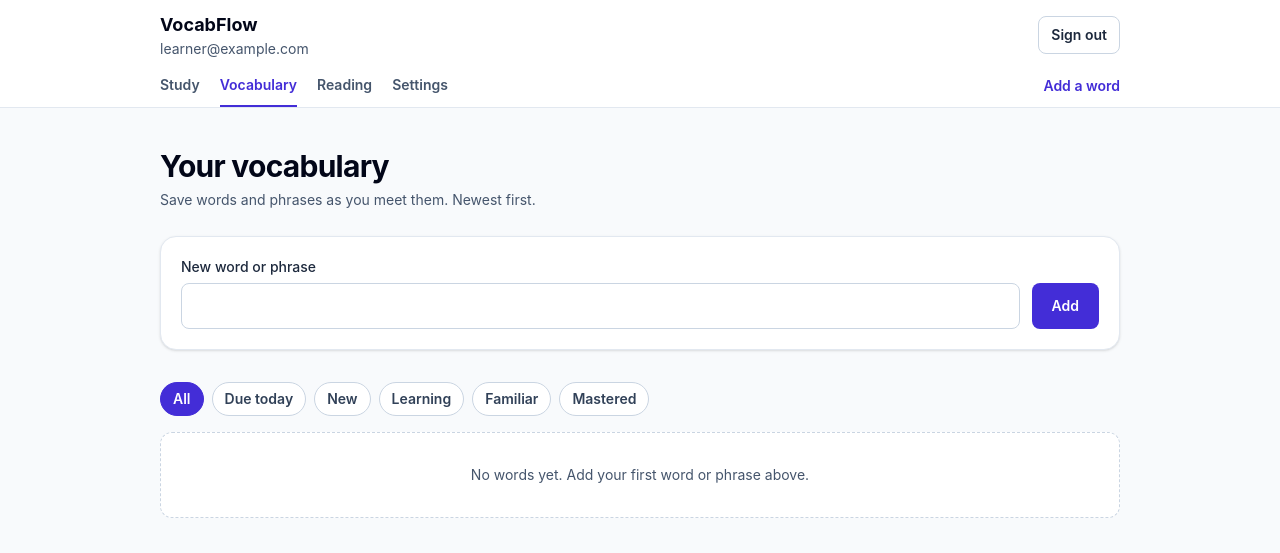
Test case: adds a trimmed term, clears the input and refreshes the list
Type "  figure out  " into the field labelled "New word or phrase" at (600, 306), box [181,283,1020,329]
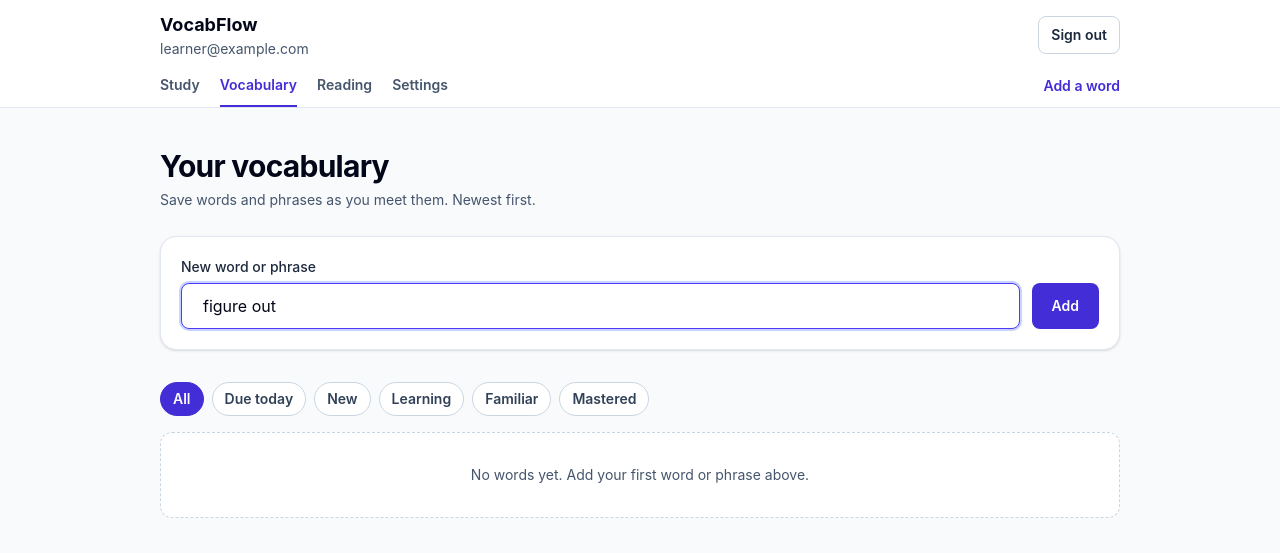
Click the button "Add" at (1065, 306), box [1032,283,1099,329]
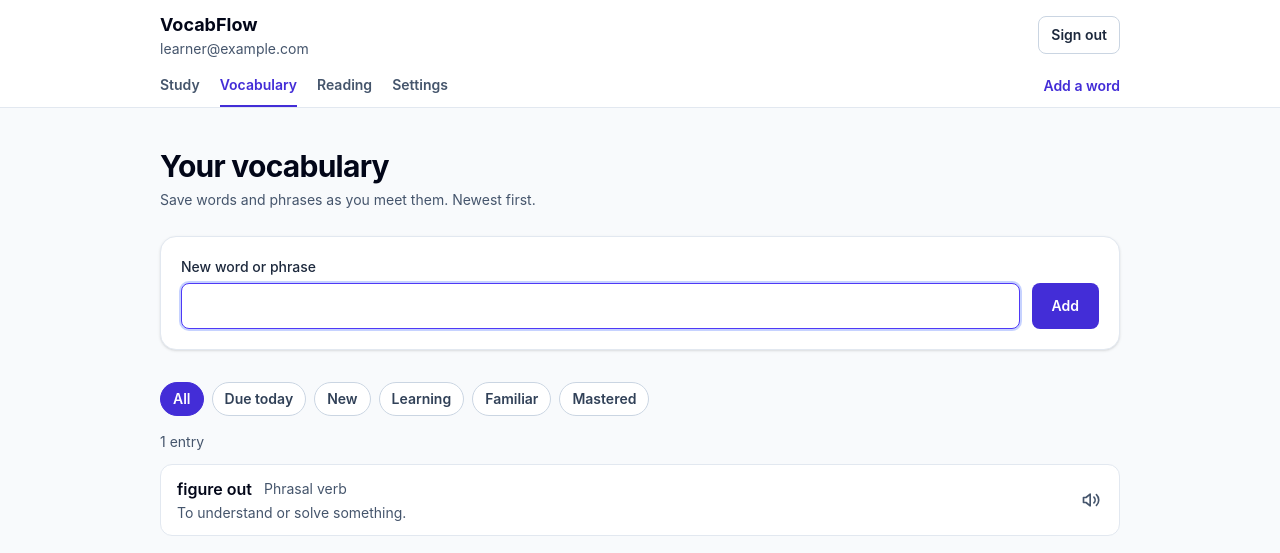
Expected: the list item shows "figure out", [161,465,1071,535]
Expected: the field labelled "New word or phrase" is empty, [181,283,1020,329]
